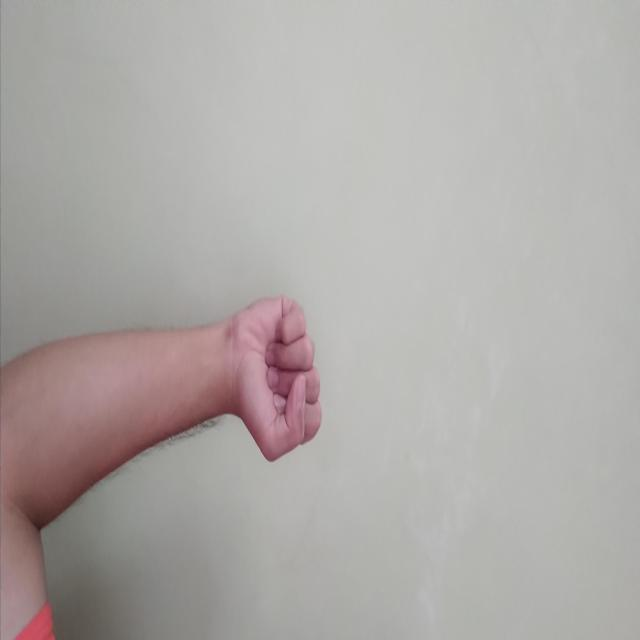S: (294, 317, 466, 408)
